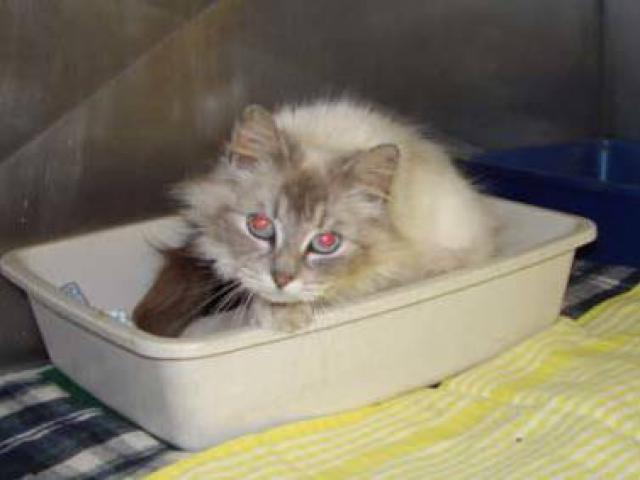cat: (134, 86, 516, 344)
